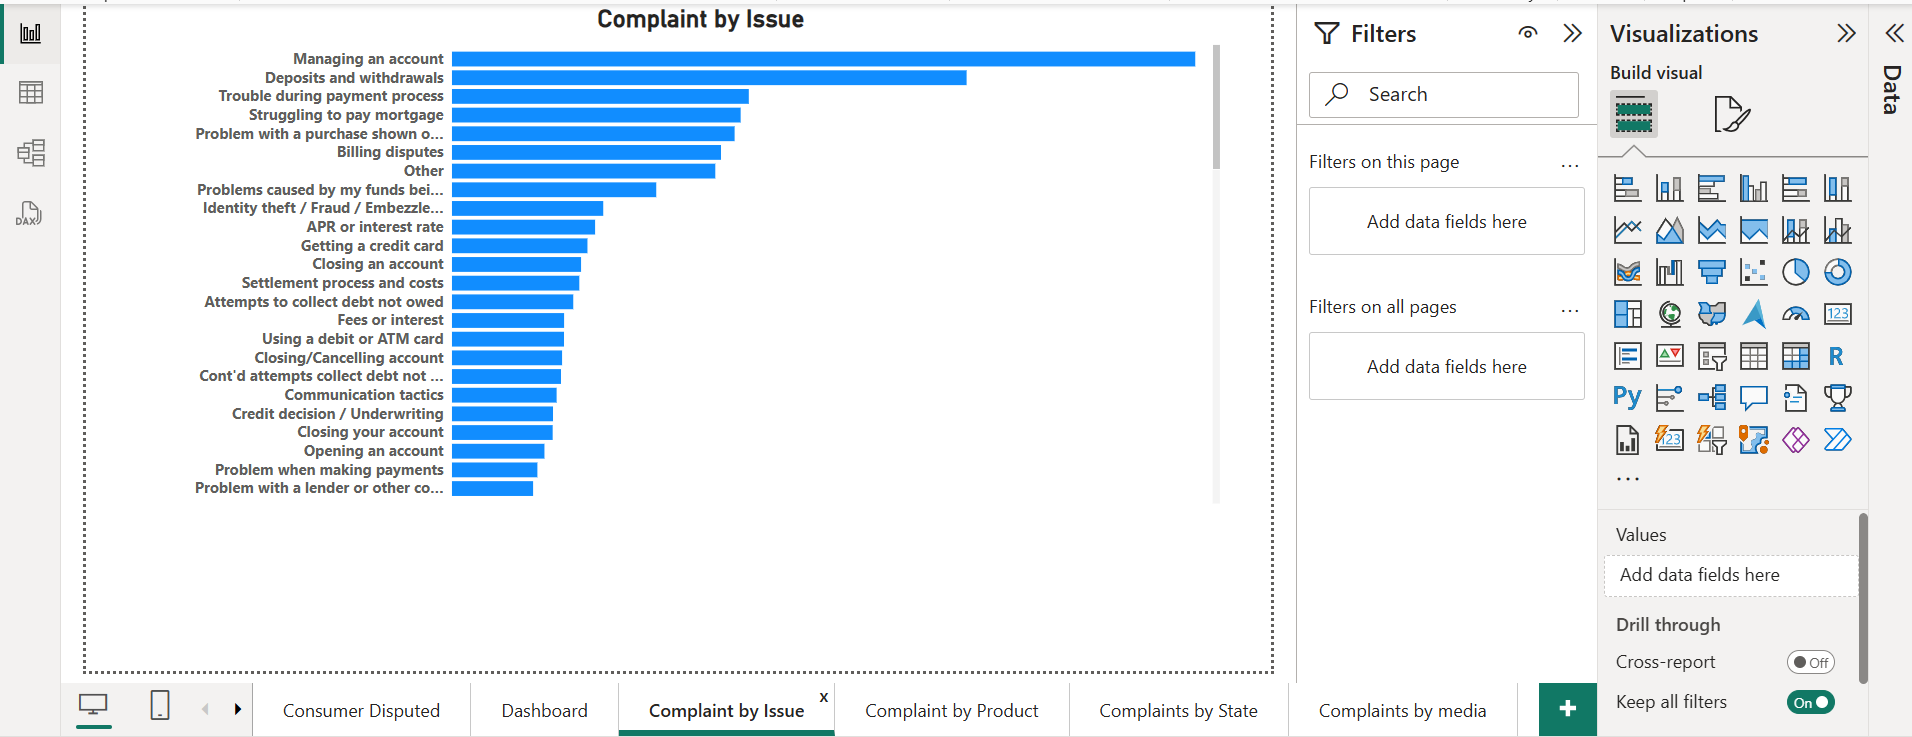

The page's visual inventory and layout, read from the dashboard file:
{"tool":"powerbi","page":{"name":"Complaint by Issue ","canvas":[1280,720],"ordinal":2},"visuals":[{"type":"barChart","title":"Complaint by Issue","fields":{"Category":["Financial Consumer Complaints.Issue"],"Y":["CountNonNull(Financial Consumer Complaints.Sub-issue)"]},"box":[98.8,0,1130.2,544.1],"z":0}]}

Visuals, with their boxes on the page's 1280x720 design canvas (x1, y1, x2, y2). These are canvas units, not pixel positions in the 1912x737 screenshot, which may show the page scaled, cropped or inside an application window:
"Complaint by Issue" barChart: bbox=(99, 0, 1229, 544)
